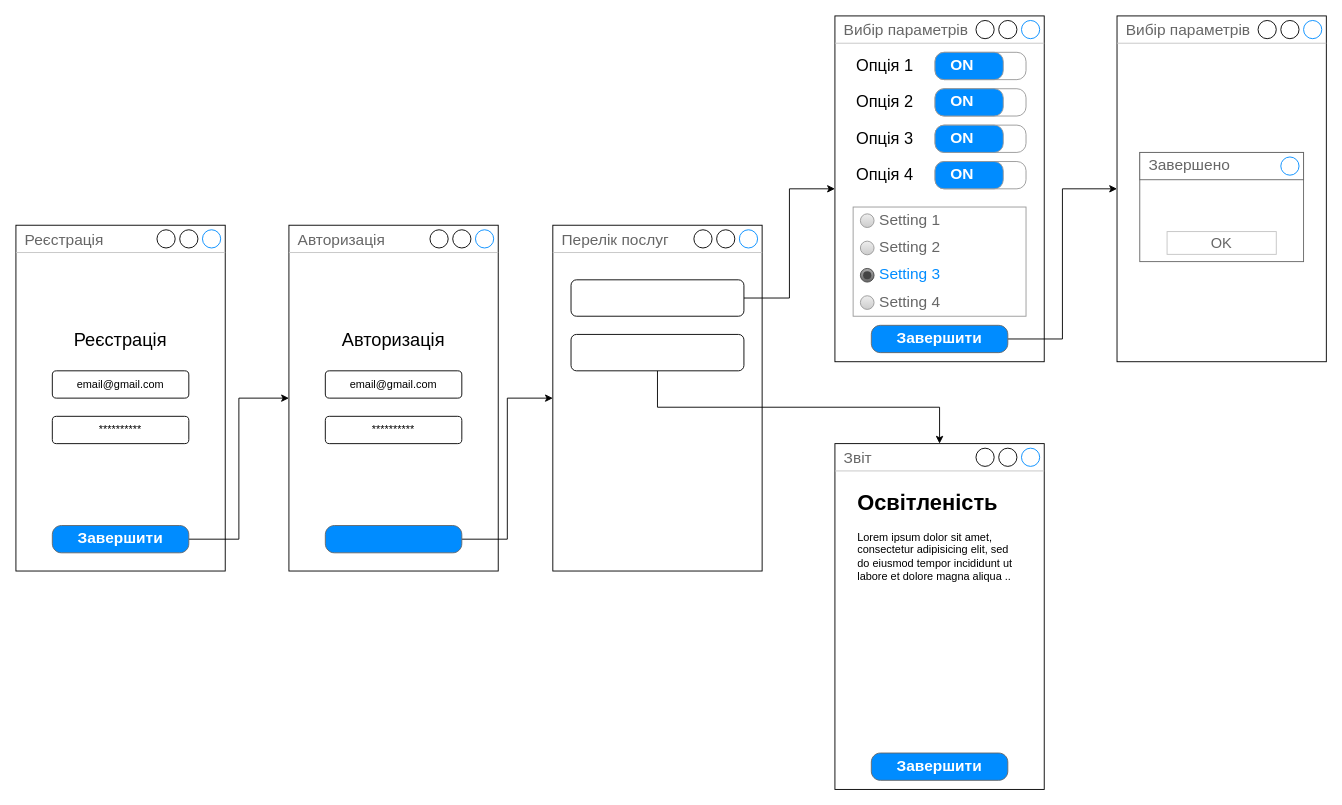
This 1342x805 diagram has some shape labels left out. The shapes that lost their labels are listed below. From the top down, each one's centre as x and y in pixels, then its label:
At point (1221, 207): "Ваші параметри успішно встановлено".
At point (657, 297): "Автоматично регулювати освітленність".
At point (657, 352): "Генерувати звіти про освітленість".
At point (393, 539): "Увійти".
